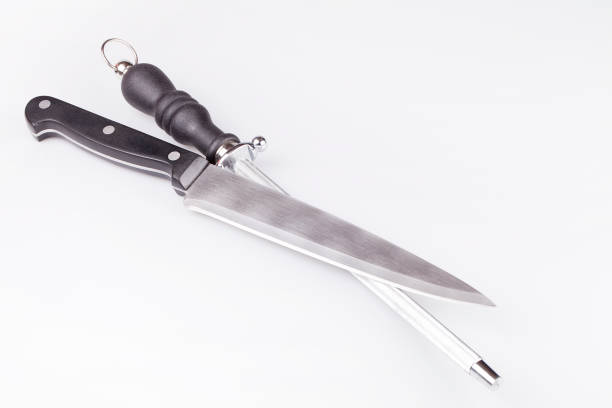knife: (22, 93, 498, 309)
